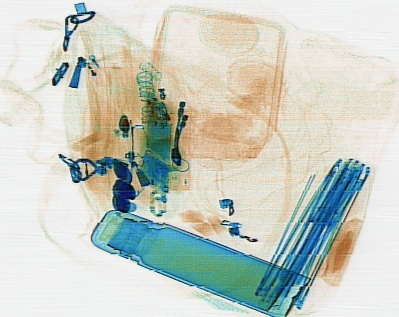lighter: (75, 52, 113, 88)
